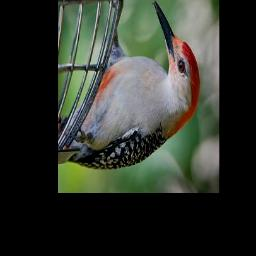Woodpecker: (59, 1, 200, 171)
